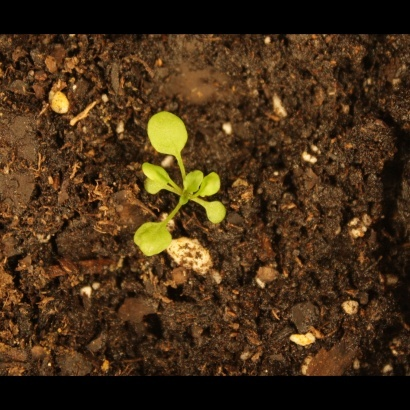leaf: (143, 108, 198, 162), (129, 221, 178, 259), (204, 197, 229, 230), (144, 163, 175, 188), (199, 170, 222, 203), (180, 168, 209, 191), (142, 176, 165, 199)
